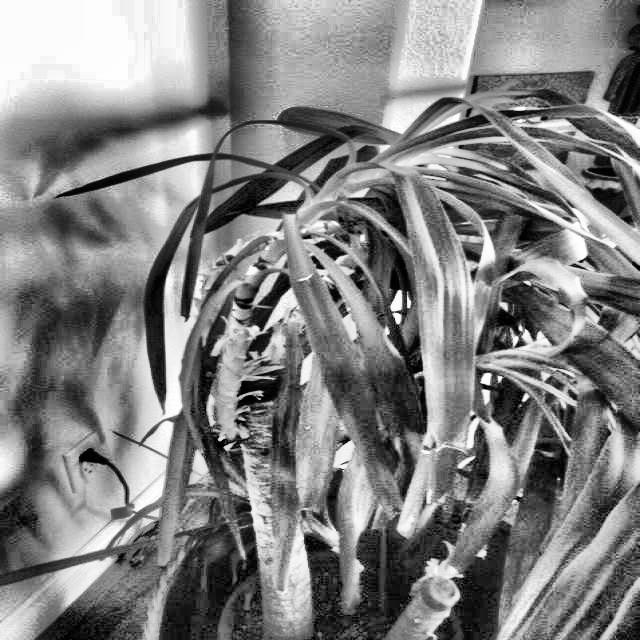plants: (155, 80, 639, 639)
